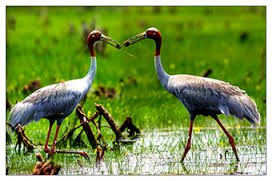seu_dau_do: (125, 24, 259, 162), (9, 27, 119, 162)
